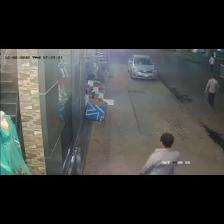person: (140, 133, 179, 174), (205, 75, 219, 106), (208, 54, 216, 72)
